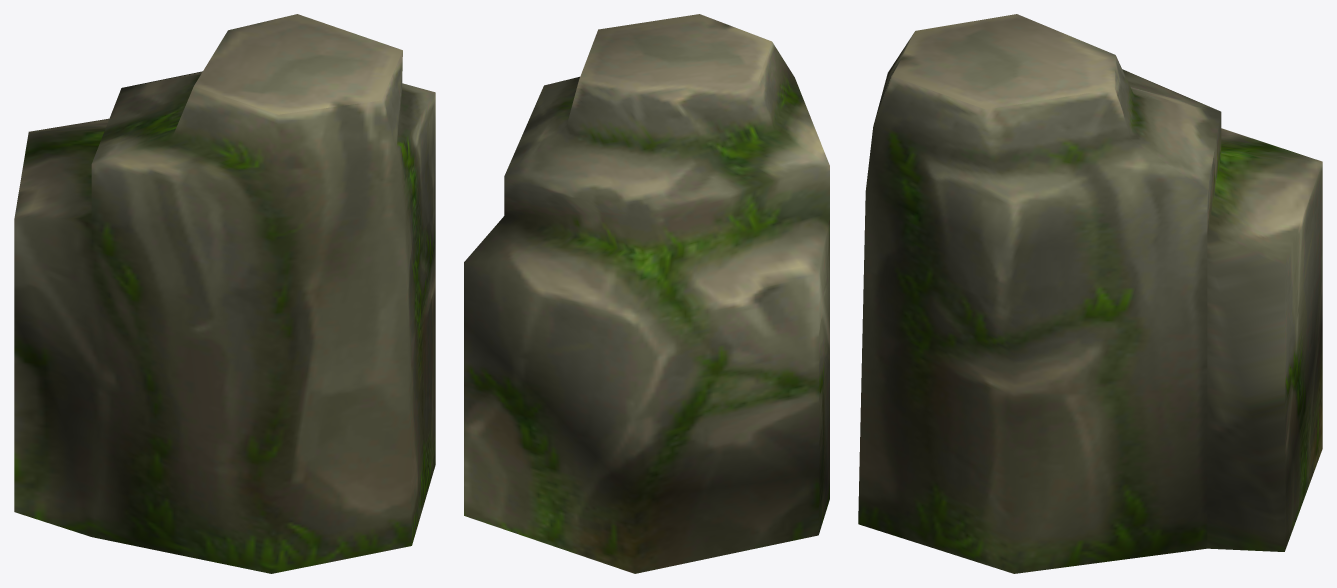
Rendered from RockFormation_4_5 (34).fbx.
The picture shows the model from 3 angles, left to right: view 1: azimuth 30°, elevation 25°; view 2: azimuth 150°, elevation 25°; view 3: azimuth 270°, elevation 25°; orthographic projection. The views are drawn at different scales.
Parts seen in each view (by area): view 1: RockFormation_4_5 (34); view 2: RockFormation_4_5 (34); view 3: RockFormation_4_5 (34).
Boxes of the visible parts, left/top/right/bottom form: RockFormation_4_5 (34): left=14, top=14, right=435, bottom=573; RockFormation_4_5 (34): left=464, top=14, right=829, bottom=573; RockFormation_4_5 (34): left=858, top=14, right=1322, bottom=573.
Bounding box in the file's own units: 704 × 806 × 769.
